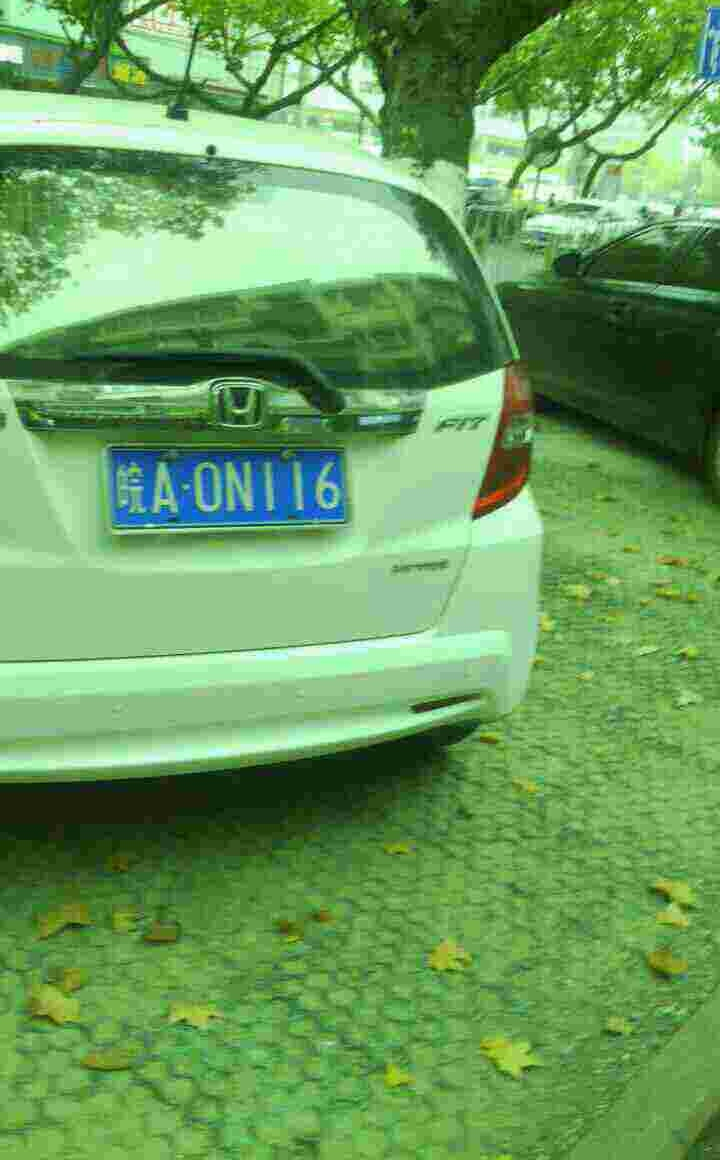plate: (115, 442, 357, 530)
